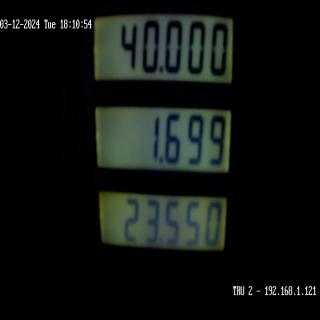screen: (90, 6, 236, 257)
